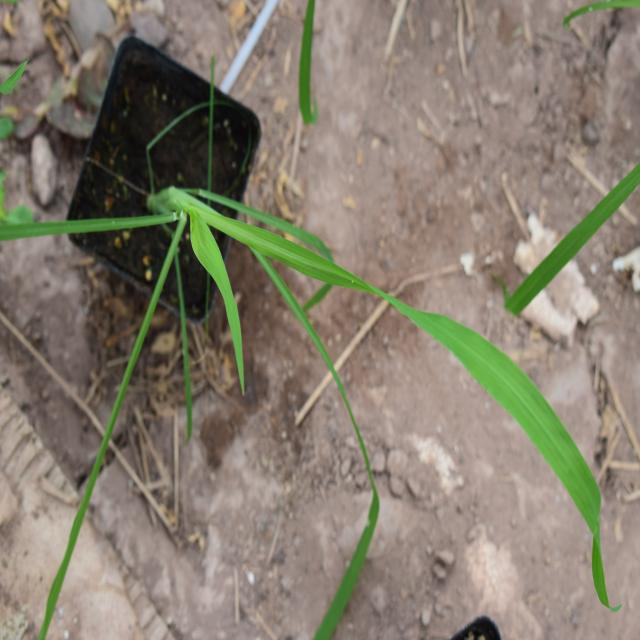barnyard_grass: (29, 192, 602, 568)
